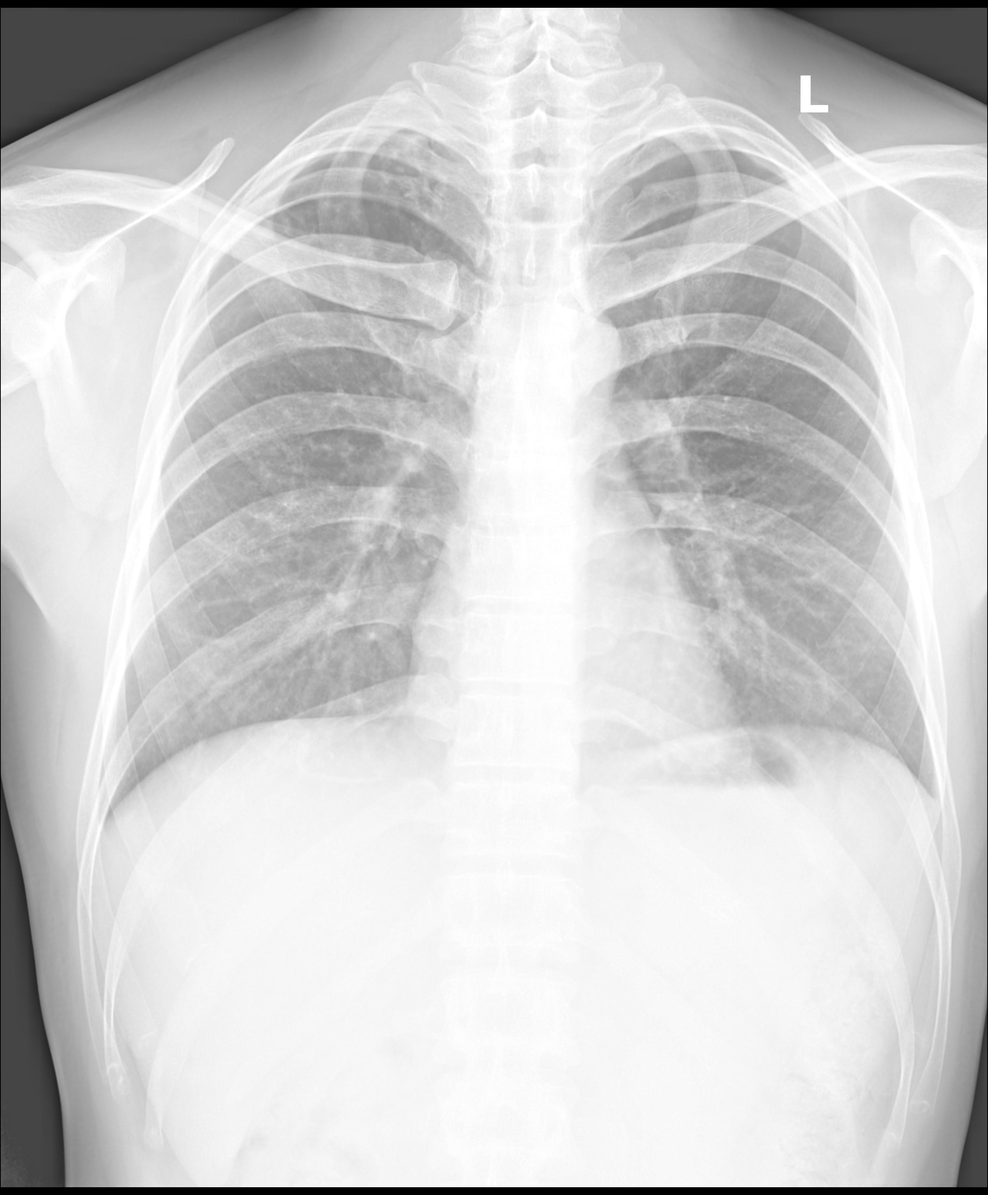Pulmonary fibrosis: (275, 128, 448, 237)
